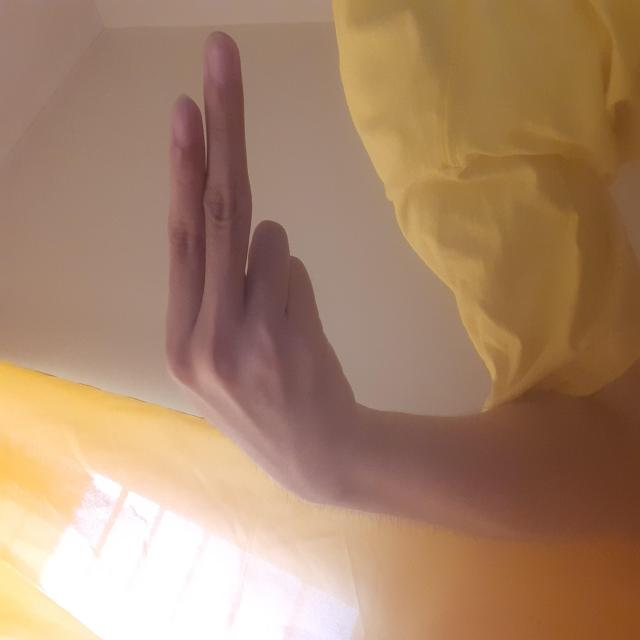H: (175, 164, 612, 352)
